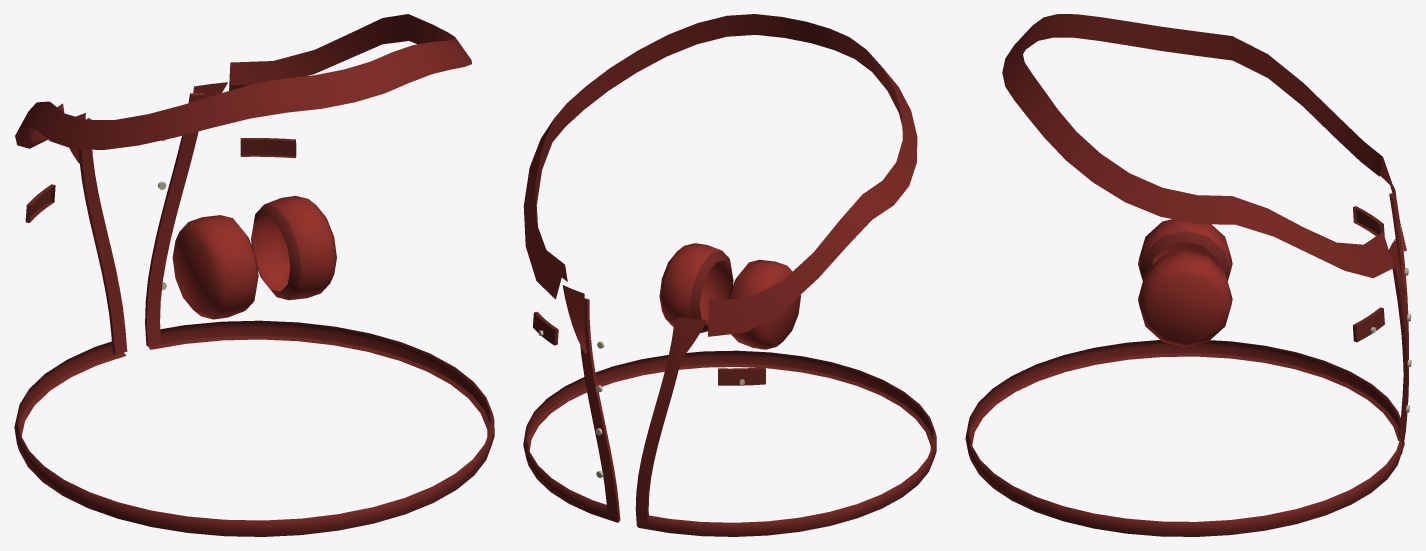
File: cos_u_plaid.glb
The picture shows the model from 3 angles, left to right: view 1: azimuth 30°, elevation 25°; view 2: azimuth 150°, elevation 25°; view 3: azimuth 270°, elevation 25°; orthographic projection. The views are drawn at different scales.
Visible parts, largest first — view 1: u_plaid, u_plaid_cuff_R, u_plaid_cuff_L; view 2: u_plaid, u_plaid_cuff_L, u_plaid_cuff_R; view 3: u_plaid, u_plaid_cuff_L, u_plaid_cuff_R.
Boxes of the visible parts, <box> form: u_plaid: <box>14,14,494,536</box>; u_plaid_cuff_R: <box>172,215,258,319</box>; u_plaid_cuff_L: <box>251,195,336,300</box>; u_plaid: <box>523,14,936,536</box>; u_plaid_cuff_L: <box>659,243,733,332</box>; u_plaid_cuff_R: <box>728,259,800,349</box>; u_plaid: <box>965,14,1411,536</box>; u_plaid_cuff_L: <box>1138,250,1232,347</box>; u_plaid_cuff_R: <box>1138,219,1232,280</box>.
Size of the model in its own units: 1.05 by 1.04 by 1.06.
